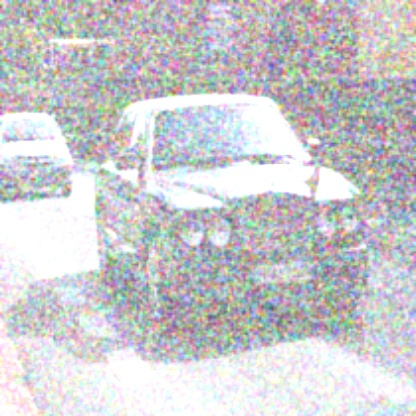Vehicle: (92, 90, 376, 340)
